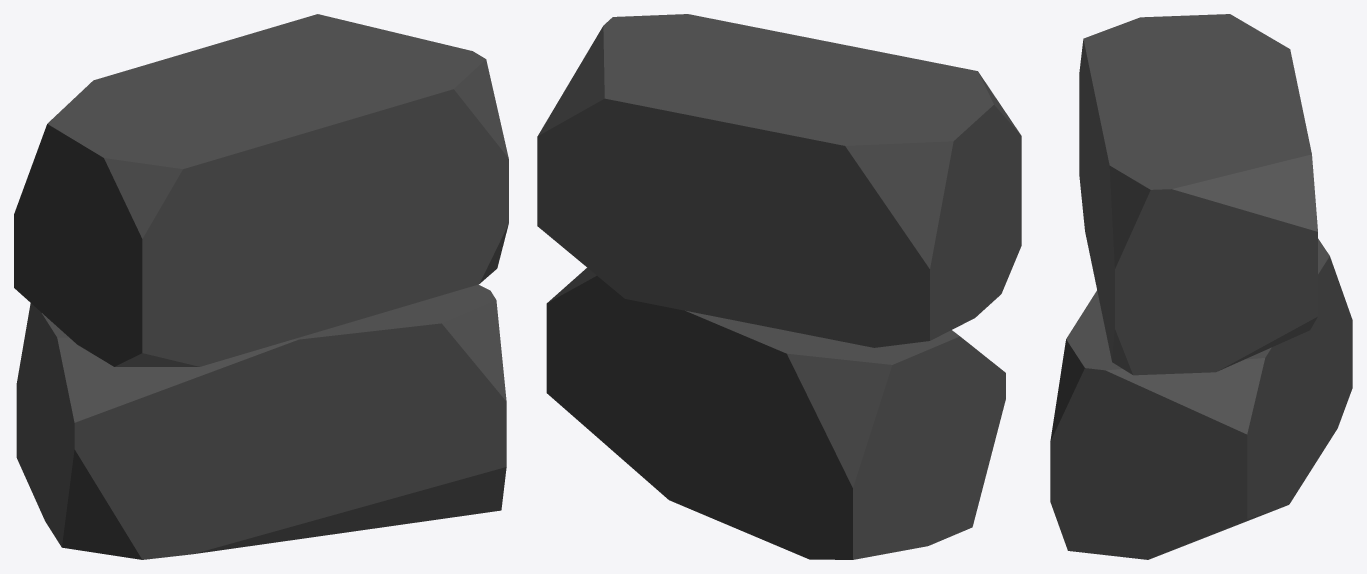
File: Brick_A_13.FBX
3 views of the same model, side by side, from view 1: azimuth 30°, elevation 25°; view 2: azimuth 150°, elevation 25°; view 3: azimuth 270°, elevation 25° (orthographic). The views are drawn at different scales.
Visible parts, largest first — view 1: Brick_A_13; view 2: Brick_A_13; view 3: Brick_A_13.
Boxes of the visible parts, <box> form: Brick_A_13: <box>14,14,508,559</box>; Brick_A_13: <box>537,14,1021,559</box>; Brick_A_13: <box>1050,14,1352,559</box>.
Size of the model in its own units: 2.19 by 2.03 by 1.48.
